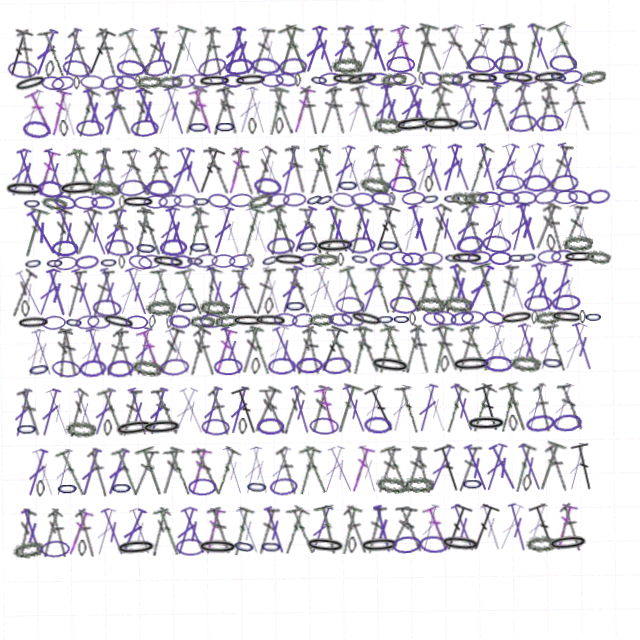chain: (368, 355, 411, 377), (112, 415, 155, 437), (395, 115, 438, 136), (301, 535, 344, 556), (436, 535, 479, 556), (544, 536, 587, 556), (139, 416, 182, 435), (112, 536, 155, 555), (15, 69, 52, 91), (59, 176, 101, 195), (100, 309, 137, 330), (348, 309, 385, 330), (199, 54, 231, 78), (5, 177, 47, 195), (315, 237, 357, 255), (450, 357, 492, 375), (194, 537, 236, 555), (356, 537, 398, 555), (9, 535, 42, 557), (423, 117, 465, 134), (464, 417, 506, 434), (145, 55, 177, 77), (360, 175, 393, 196), (130, 355, 163, 376), (373, 475, 406, 496), (347, 70, 383, 89), (64, 55, 95, 77), (253, 55, 284, 76), (503, 71, 539, 89), (151, 251, 187, 269), (499, 311, 535, 329), (247, 189, 276, 211), (254, 175, 284, 196), (10, 56, 41, 76), (118, 56, 149, 76), (482, 236, 513, 256), (50, 356, 81, 376), (91, 176, 123, 195), (145, 296, 177, 315), (442, 296, 474, 315), (509, 356, 541, 375), (227, 56, 257, 76), (551, 176, 581, 196), (456, 236, 486, 256), (389, 296, 419, 316), (524, 416, 554, 436), (24, 116, 53, 136), (38, 176, 67, 196), (534, 72, 570, 88), (549, 312, 585, 328), (510, 116, 540, 135), (105, 236, 135, 255), (267, 236, 297, 255), (92, 296, 122, 315), (335, 296, 365, 315), (551, 296, 581, 315), (159, 356, 189, 375), (321, 356, 351, 375), (551, 416, 581, 435), (389, 536, 419, 555), (416, 536, 446, 555), (468, 72, 503, 88), (253, 312, 288, 328), (374, 117, 405, 135), (563, 237, 594, 255), (199, 297, 230, 315), (64, 417, 95, 435), (523, 537, 554, 555), (78, 356, 107, 375), (362, 416, 391, 435), (281, 57, 311, 75), (132, 117, 162, 135), (308, 417, 338, 435), (334, 57, 365, 74), (415, 297, 446, 314), (401, 477, 432, 494), (236, 72, 271, 87), (333, 72, 368, 87), (273, 252, 308, 267), (16, 312, 51, 327), (229, 535, 254, 556), (470, 57, 499, 75), (497, 57, 526, 75), (119, 177, 148, 195), (348, 237, 377, 255), (524, 297, 553, 315), (483, 357, 512, 375), (200, 417, 229, 435), (267, 477, 296, 495), (38, 537, 67, 555), (453, 70, 479, 90), (173, 537, 203, 554), (552, 57, 580, 75), (582, 71, 610, 89), (147, 177, 175, 195), (106, 357, 134, 375), (26, 356, 51, 376), (535, 190, 561, 209), (389, 250, 415, 269), (340, 310, 366, 329), (432, 310, 458, 329), (389, 57, 418, 74), (78, 117, 107, 134), (497, 177, 526, 194), (524, 177, 553, 194), (213, 357, 242, 374), (267, 357, 296, 374), (186, 477, 215, 494), (200, 73, 235, 87), (122, 193, 157, 207), (450, 253, 485, 267), (563, 253, 598, 267), (231, 313, 266, 327), (42, 191, 69, 209), (538, 117, 566, 134), (390, 177, 418, 194), (52, 237, 80, 254), (160, 237, 188, 254), (295, 357, 323, 374), (255, 417, 283, 434), (54, 190, 79, 209), (53, 71, 79, 89), (102, 71, 128, 89), (117, 71, 143, 89), (561, 71, 587, 89), (332, 191, 358, 209), (568, 191, 594, 209), (128, 251, 154, 269), (369, 251, 395, 269), (449, 311, 475, 329), (213, 311, 240, 328), (540, 356, 564, 375), (423, 71, 448, 89), (482, 311, 507, 329), (371, 191, 397, 208), (159, 72, 186, 88), (383, 72, 410, 88), (451, 192, 478, 208), (135, 237, 159, 255), (585, 252, 612, 268), (534, 312, 561, 328), (243, 477, 267, 495), (191, 71, 216, 88), (277, 71, 302, 88), (159, 191, 184, 208), (208, 191, 233, 208), (267, 191, 292, 208), (588, 191, 613, 208), (75, 251, 100, 268), (194, 251, 219, 268), (75, 311, 100, 328), (305, 190, 327, 209), (315, 190, 337, 209), (260, 250, 282, 269), (459, 117, 482, 135), (297, 237, 320, 255), (378, 237, 401, 255), (257, 537, 280, 555), (43, 72, 68, 88), (395, 72, 420, 88), (54, 252, 79, 268), (229, 252, 254, 268), (419, 252, 444, 268), (328, 312, 353, 328), (189, 117, 212, 134), (216, 117, 239, 134), (338, 177, 361, 194), (189, 237, 212, 254), (176, 297, 199, 314), (284, 297, 307, 314), (14, 417, 37, 434), (54, 477, 77, 494), (108, 477, 131, 494), (459, 477, 482, 494), (139, 72, 165, 87), (464, 192, 490, 207), (313, 252, 339, 267), (308, 312, 334, 327), (498, 192, 522, 208), (299, 252, 323, 268), (168, 312, 192, 328), (291, 312, 315, 328), (422, 312, 446, 328), (551, 71, 572, 89), (174, 72, 199, 87), (230, 192, 255, 207), (551, 252, 576, 267), (199, 312, 224, 327), (273, 312, 298, 327), (440, 73, 466, 87), (189, 313, 215, 327), (83, 72, 107, 87), (321, 72, 345, 87), (175, 192, 199, 207), (284, 192, 308, 207), (403, 192, 427, 207), (139, 252, 163, 267), (468, 252, 492, 267), (538, 252, 562, 267), (42, 312, 66, 327), (87, 312, 111, 327), (461, 312, 485, 327), (350, 251, 371, 268), (224, 72, 247, 87), (263, 73, 287, 87), (369, 73, 393, 87), (519, 73, 543, 87), (75, 193, 99, 207), (92, 193, 116, 207), (145, 193, 169, 207), (352, 193, 376, 207), (514, 193, 538, 207), (555, 193, 579, 207), (212, 253, 236, 267), (491, 73, 514, 87), (480, 193, 503, 207), (171, 253, 194, 267), (402, 253, 425, 267), (490, 253, 513, 267), (125, 313, 148, 327), (312, 72, 332, 88), (422, 192, 442, 208), (24, 252, 44, 268), (186, 252, 206, 267), (444, 252, 464, 267), (519, 252, 539, 267), (64, 312, 84, 327), (24, 193, 43, 207), (193, 193, 212, 207), (444, 193, 463, 207), (46, 253, 65, 267), (100, 253, 119, 267), (508, 253, 527, 267), (376, 313, 395, 327), (392, 313, 411, 327), (584, 313, 603, 327), (47, 57, 58, 75), (61, 117, 71, 134), (547, 237, 557, 254), (264, 297, 274, 314), (250, 357, 260, 374), (439, 357, 449, 374), (507, 417, 517, 434), (520, 477, 530, 494), (250, 117, 259, 134), (277, 117, 286, 134), (426, 177, 435, 194), (21, 297, 30, 314), (102, 417, 111, 434), (237, 417, 246, 434), (34, 477, 43, 494), (75, 537, 84, 554), (345, 537, 354, 554), (137, 72, 146, 87), (247, 253, 256, 267), (165, 313, 174, 327), (421, 73, 429, 87), (148, 313, 156, 327), (76, 73, 83, 87), (297, 73, 304, 87), (120, 193, 127, 207), (390, 193, 397, 207), (119, 253, 126, 267), (338, 253, 345, 267), (409, 313, 416, 327), (531, 313, 538, 327), (579, 313, 586, 327)
double: (550, 23, 589, 76), (362, 384, 400, 436), (281, 23, 318, 76), (24, 204, 62, 255), (84, 24, 121, 76), (313, 324, 350, 376), (530, 443, 566, 496), (120, 24, 156, 76), (193, 144, 229, 196), (436, 504, 472, 556), (463, 504, 499, 556), (166, 23, 201, 76), (268, 203, 303, 256), (409, 263, 444, 316), (498, 383, 533, 436), (133, 443, 168, 496), (52, 444, 87, 496), (525, 504, 560, 556), (329, 383, 363, 436), (174, 24, 209, 75), (12, 264, 47, 315), (463, 264, 498, 315), (322, 444, 357, 495), (422, 444, 457, 495), (484, 444, 519, 495), (275, 24, 309, 76), (423, 84, 457, 136), (67, 144, 101, 196), (464, 144, 498, 196), (18, 204, 52, 256), (369, 204, 403, 256), (383, 264, 417, 316), (458, 324, 492, 376), (229, 384, 263, 436), (464, 384, 498, 436), (207, 444, 241, 496), (377, 444, 411, 496), (431, 444, 465, 496), (275, 504, 309, 556), (283, 504, 317, 556), (26, 84, 60, 135), (256, 144, 290, 195), (491, 144, 525, 195), (526, 144, 560, 195), (161, 324, 195, 375), (167, 384, 201, 435), (248, 384, 282, 435), (113, 504, 147, 555), (491, 504, 525, 555), (5, 24, 38, 76), (40, 24, 73, 76), (140, 144, 173, 196), (175, 264, 208, 316), (472, 264, 505, 316), (94, 384, 127, 436), (161, 444, 194, 496), (296, 444, 329, 496), (5, 265, 39, 315), (383, 24, 416, 75), (418, 24, 451, 75), (437, 24, 470, 75), (545, 24, 578, 75), (107, 84, 140, 135), (134, 84, 167, 135), (396, 84, 429, 135), (167, 144, 200, 195), (175, 144, 208, 195), (72, 204, 105, 255), (431, 204, 464, 255), (531, 204, 564, 255), (269, 324, 302, 375), (431, 324, 464, 375), (558, 324, 591, 375), (175, 384, 208, 435), (175, 504, 208, 555), (445, 504, 478, 555), (464, 25, 498, 74), (411, 24, 443, 76), (73, 84, 105, 136), (311, 144, 343, 196), (235, 204, 267, 256), (338, 264, 370, 316), (378, 324, 410, 376), (438, 384, 470, 436), (473, 384, 505, 436), (108, 444, 140, 496), (289, 444, 321, 496), (149, 504, 181, 556), (445, 25, 478, 75), (33, 24, 65, 75), (527, 24, 559, 75), (405, 84, 437, 135), (459, 84, 491, 135), (114, 144, 146, 195), (54, 204, 86, 255), (81, 204, 113, 255), (243, 204, 275, 255), (289, 204, 321, 255), (451, 204, 483, 255), (567, 204, 599, 255), (33, 264, 65, 315), (114, 264, 146, 315), (168, 264, 200, 315), (311, 264, 343, 315), (357, 264, 389, 315), (154, 324, 186, 375), (41, 384, 73, 435), (68, 384, 100, 435), (87, 384, 119, 435), (338, 384, 370, 435), (446, 384, 478, 435), (459, 444, 491, 495), (513, 444, 545, 495), (60, 504, 92, 555), (95, 504, 127, 555), (230, 504, 262, 555), (419, 504, 451, 555), (383, 505, 416, 554), (60, 144, 91, 196), (181, 204, 212, 256), (419, 264, 450, 316), (243, 324, 274, 376), (540, 324, 571, 376), (492, 384, 523, 436), (505, 444, 536, 496), (311, 504, 342, 556), (303, 24, 334, 75), (365, 24, 396, 75), (19, 84, 50, 135), (154, 84, 185, 135), (505, 84, 536, 135), (559, 84, 590, 135), (330, 144, 361, 195), (446, 144, 477, 195), (500, 144, 531, 195), (519, 144, 550, 195), (324, 204, 355, 255), (486, 204, 517, 255), (68, 264, 99, 315), (122, 264, 153, 315), (203, 264, 234, 315), (276, 264, 307, 315), (303, 264, 334, 315), (27, 324, 58, 375), (135, 324, 166, 375), (262, 324, 293, 375), (486, 324, 517, 375), (27, 444, 58, 495), (100, 444, 131, 495), (316, 444, 347, 495), (478, 444, 509, 495), (168, 504, 199, 555), (303, 504, 334, 555), (519, 504, 550, 555), (520, 24, 550, 76), (263, 84, 293, 136), (393, 144, 423, 196), (317, 204, 347, 256), (344, 204, 374, 256), (150, 264, 180, 316), (366, 264, 396, 316), (344, 324, 374, 376), (425, 324, 455, 376), (393, 384, 423, 436), (568, 444, 598, 496), (223, 504, 253, 556), (331, 504, 361, 556), (149, 145, 180, 195), (115, 24, 145, 75), (223, 24, 253, 75), (258, 24, 288, 75), (312, 24, 342, 75), (331, 24, 361, 75), (82, 84, 112, 135), (190, 84, 220, 135), (344, 84, 374, 135), (352, 84, 382, 135), (452, 84, 482, 135), (7, 144, 37, 195), (339, 144, 369, 195), (412, 144, 442, 195), (420, 144, 450, 195), (101, 204, 131, 255), (155, 204, 185, 255), (209, 204, 239, 255), (217, 204, 247, 255), (352, 204, 382, 255), (479, 204, 509, 255), (501, 264, 531, 315), (520, 264, 550, 315), (528, 264, 558, 315), (217, 324, 247, 375), (514, 324, 544, 375), (533, 324, 563, 375), (15, 384, 45, 435), (420, 384, 450, 435), (547, 384, 577, 435), (20, 444, 50, 495), (74, 444, 104, 495), (263, 444, 293, 495), (344, 444, 374, 495), (15, 504, 45, 555), (123, 504, 153, 555), (204, 504, 234, 555), (474, 504, 504, 555), (250, 145, 280, 195), (304, 145, 334, 195), (560, 205, 590, 255), (393, 265, 423, 315), (182, 325, 212, 375), (128, 445, 158, 495), (190, 445, 220, 495), (339, 505, 369, 555), (150, 24, 179, 75), (196, 24, 225, 75), (393, 24, 422, 75), (501, 24, 530, 75), (101, 84, 130, 135), (163, 84, 192, 135), (182, 84, 211, 135), (236, 84, 265, 135), (290, 84, 319, 135), (479, 84, 508, 135), (15, 144, 44, 195), (34, 144, 63, 195), (42, 144, 71, 195), (358, 144, 387, 195), (439, 144, 468, 195), (109, 204, 138, 255), (163, 204, 192, 255), (406, 204, 435, 255), (506, 204, 535, 255), (514, 204, 543, 255), (142, 264, 171, 315), (447, 264, 476, 315), (547, 264, 576, 315), (82, 324, 111, 375), (209, 324, 238, 375), (236, 324, 265, 375), (371, 324, 400, 375), (506, 324, 535, 375), (568, 324, 597, 375), (123, 384, 152, 435), (412, 384, 441, 435), (155, 444, 184, 495), (217, 444, 246, 495), (352, 444, 381, 495), (88, 504, 117, 555), (258, 504, 287, 555), (69, 25, 98, 75), (358, 25, 387, 75), (433, 85, 462, 135), (568, 85, 597, 135), (547, 145, 576, 195), (425, 205, 454, 255), (150, 385, 179, 435), (258, 385, 287, 435), (277, 385, 306, 435), (393, 505, 422, 555), (56, 84, 84, 135), (218, 84, 246, 135), (245, 84, 273, 135), (380, 84, 408, 135), (97, 144, 125, 195), (224, 144, 252, 195), (386, 144, 414, 195), (475, 144, 503, 195), (556, 144, 584, 195), (399, 204, 427, 255), (43, 264, 71, 315), (224, 264, 252, 315), (21, 324, 49, 375), (75, 324, 103, 375), (480, 324, 508, 375), (35, 384, 63, 435), (143, 384, 171, 435), (197, 384, 225, 435), (224, 384, 252, 435), (286, 384, 314, 435), (305, 384, 333, 435), (521, 384, 549, 435), (183, 444, 211, 495), (237, 444, 265, 495), (561, 444, 589, 495), (413, 504, 441, 555), (548, 504, 576, 555), (143, 25, 171, 75), (251, 25, 279, 75), (210, 85, 238, 135), (124, 145, 152, 195), (205, 145, 233, 195), (232, 145, 260, 195), (232, 265, 260, 315), (440, 265, 468, 315), (191, 325, 219, 375), (326, 325, 354, 375), (353, 325, 381, 375), (205, 385, 233, 435), (556, 385, 584, 435), (372, 445, 400, 495), (453, 445, 481, 495), (542, 445, 570, 495), (62, 24, 89, 75), (232, 24, 259, 75), (475, 24, 502, 75), (48, 84, 75, 135), (89, 144, 116, 195), (278, 144, 305, 195), (286, 144, 313, 195), (97, 264, 124, 315), (259, 264, 286, 315), (8, 384, 35, 435), (313, 384, 340, 435), (359, 384, 386, 435), (386, 384, 413, 435), (48, 444, 75, 495), (245, 444, 272, 495), (197, 504, 224, 555), (367, 504, 394, 555), (502, 504, 529, 555), (129, 85, 156, 135), (272, 85, 299, 135), (534, 85, 561, 135), (129, 205, 156, 255), (191, 205, 218, 255), (380, 205, 407, 255), (461, 205, 488, 255), (89, 265, 116, 315), (286, 265, 313, 315), (102, 325, 129, 375), (291, 325, 318, 375), (399, 325, 426, 375), (35, 505, 62, 555), (556, 505, 583, 555), (198, 264, 224, 315), (57, 324, 83, 375), (130, 324, 156, 375), (98, 25, 124, 75), (319, 85, 345, 135), (489, 85, 515, 135), (516, 85, 542, 135), (543, 85, 569, 135), (368, 145, 394, 195), (138, 205, 164, 255), (300, 205, 326, 255), (111, 325, 137, 375), (454, 325, 480, 375), (63, 385, 89, 435), (84, 445, 110, 495), (273, 445, 299, 495), (400, 445, 426, 495), (9, 505, 35, 555), (71, 505, 97, 555), (144, 505, 170, 555), (252, 505, 278, 555), (373, 84, 398, 135), (333, 264, 358, 315), (557, 264, 582, 315), (341, 25, 366, 75), (327, 85, 352, 135), (543, 205, 568, 255), (252, 265, 277, 315), (117, 385, 142, 435), (44, 505, 69, 555), (301, 85, 325, 135), (50, 205, 74, 255), (64, 265, 88, 315), (496, 265, 520, 315), (409, 325, 433, 375), (361, 505, 385, 555), (207, 25, 230, 75), (266, 205, 289, 255), (301, 325, 324, 375), (531, 385, 554, 435), (497, 25, 519, 75), (51, 325, 73, 375), (410, 445, 432, 495), (19, 25, 40, 75)
